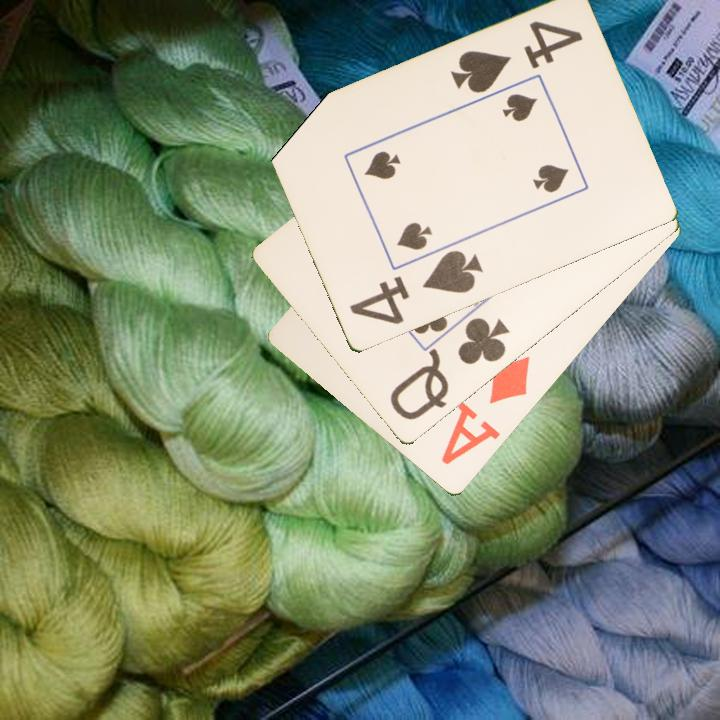4s: (345, 247, 486, 328), (447, 17, 586, 97)
Ad: (437, 353, 533, 469)
Qc: (386, 314, 513, 424)
